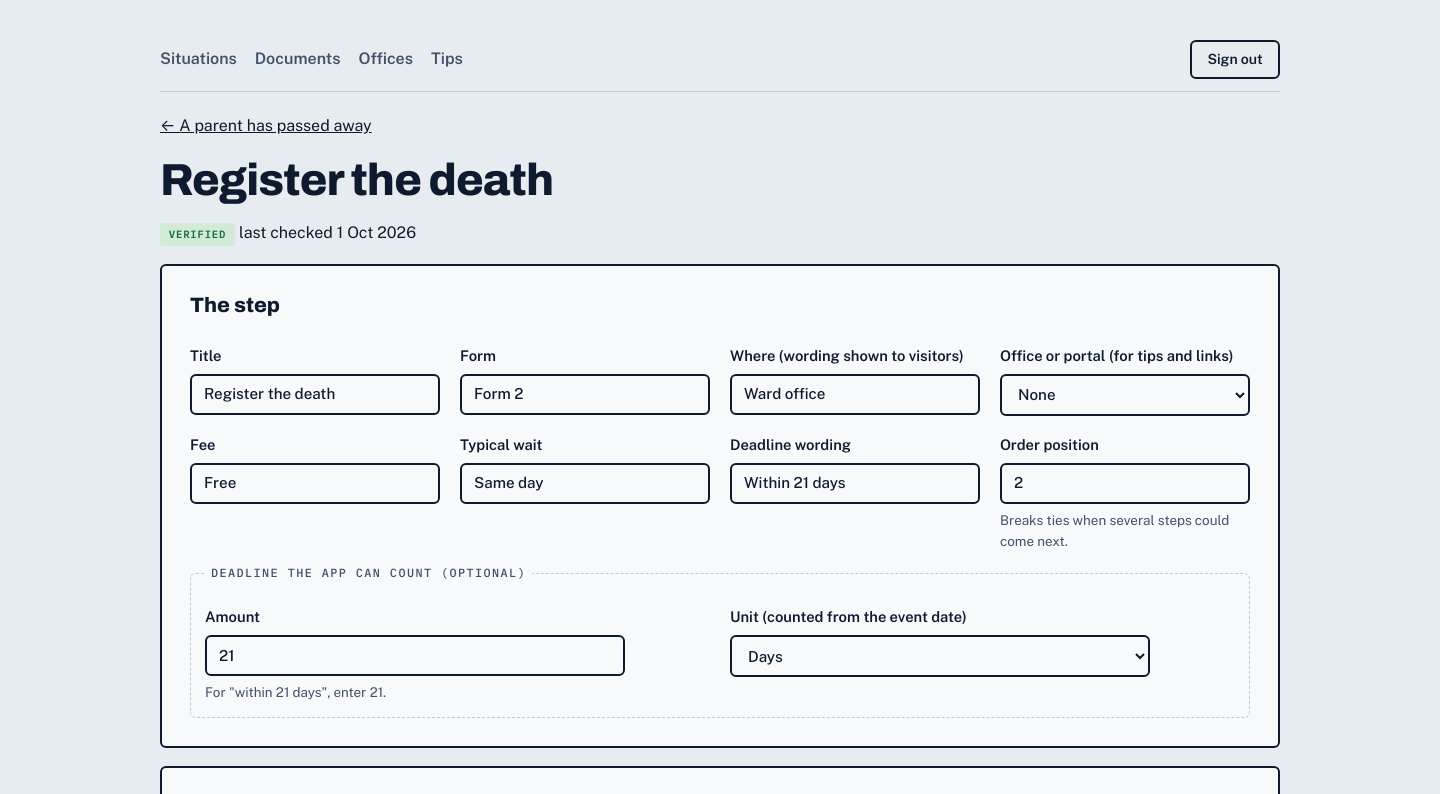
Test: Admin: the step editor › saves with the source, the verified flag, dependencies and documents
The width and height of the screenshot is (1440, 794).
Expected: the heading "Register the death" is shown, 160,156 -> 553,204
Expected: the field labelled "Title" holds "Register the death", 190,374 -> 440,415
Replace the text in the field labelled "Fee" with "Rs 10": point(315, 484) 190,463 -> 440,504
(page scrolled)
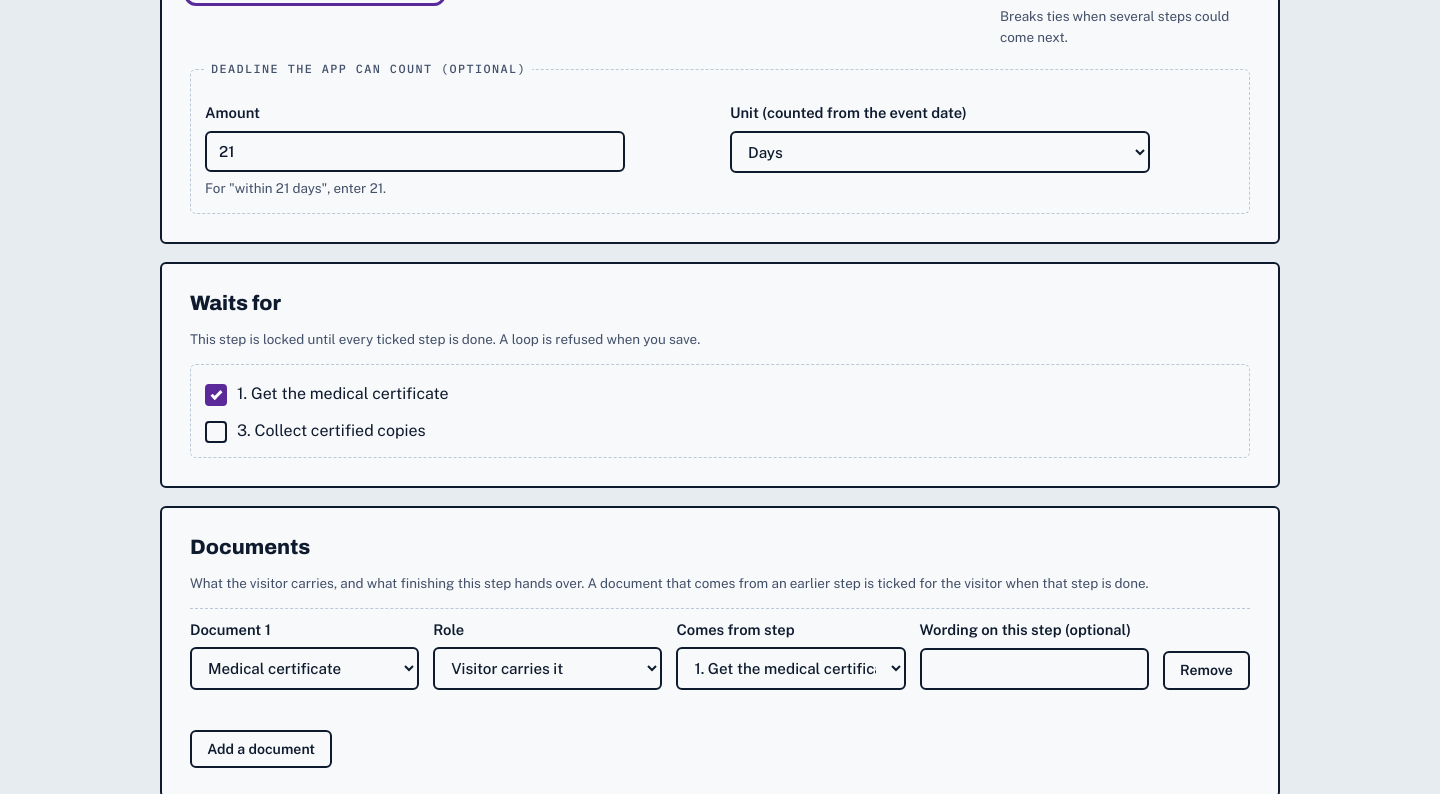
Click the checkbox labelled "3. Collect certified copies": point(216, 432) 205,421 -> 227,443
(page scrolled)
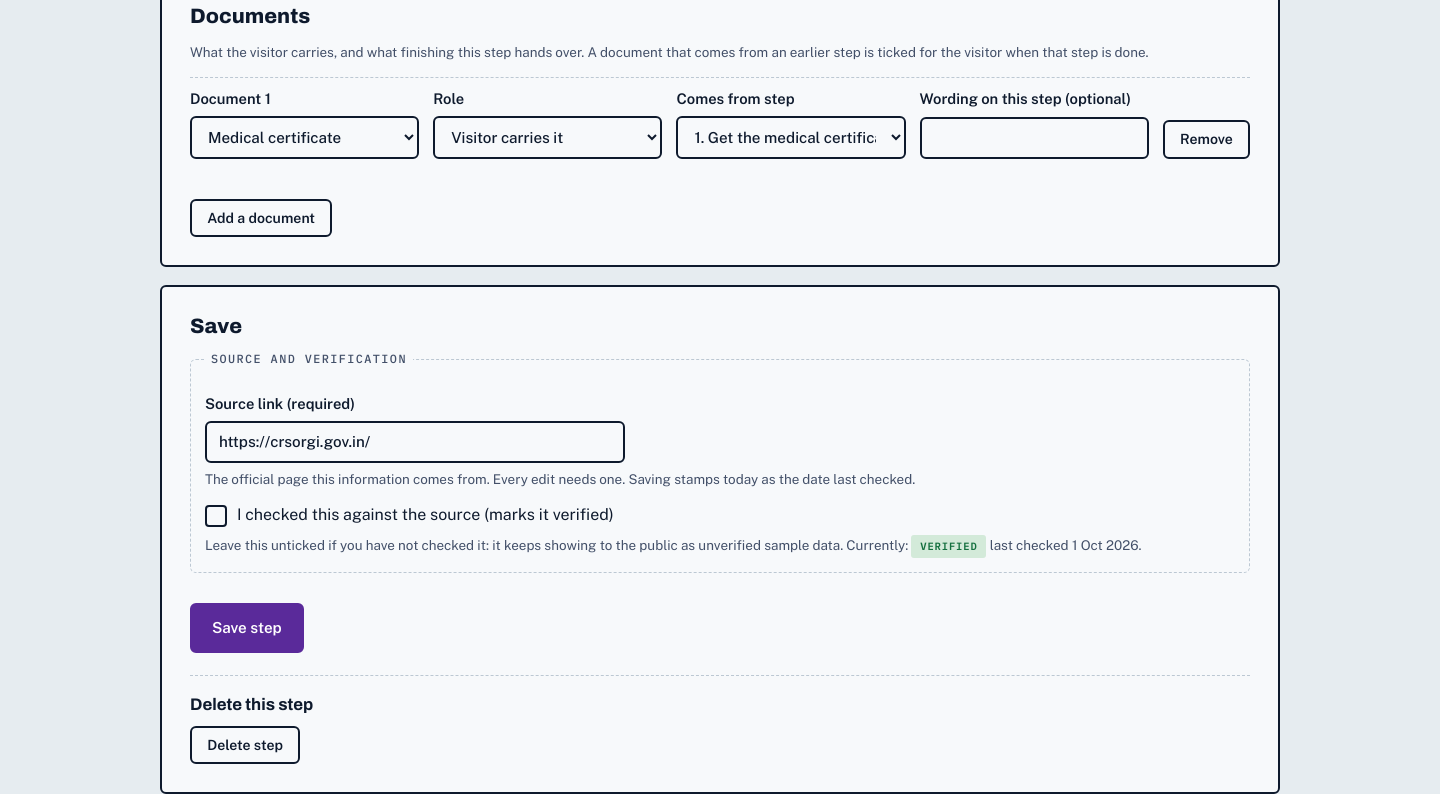
Replace the text in the field labelled "Source link (required)" with "https://example.gov.in/fee": point(415, 442) 205,421 -> 625,463
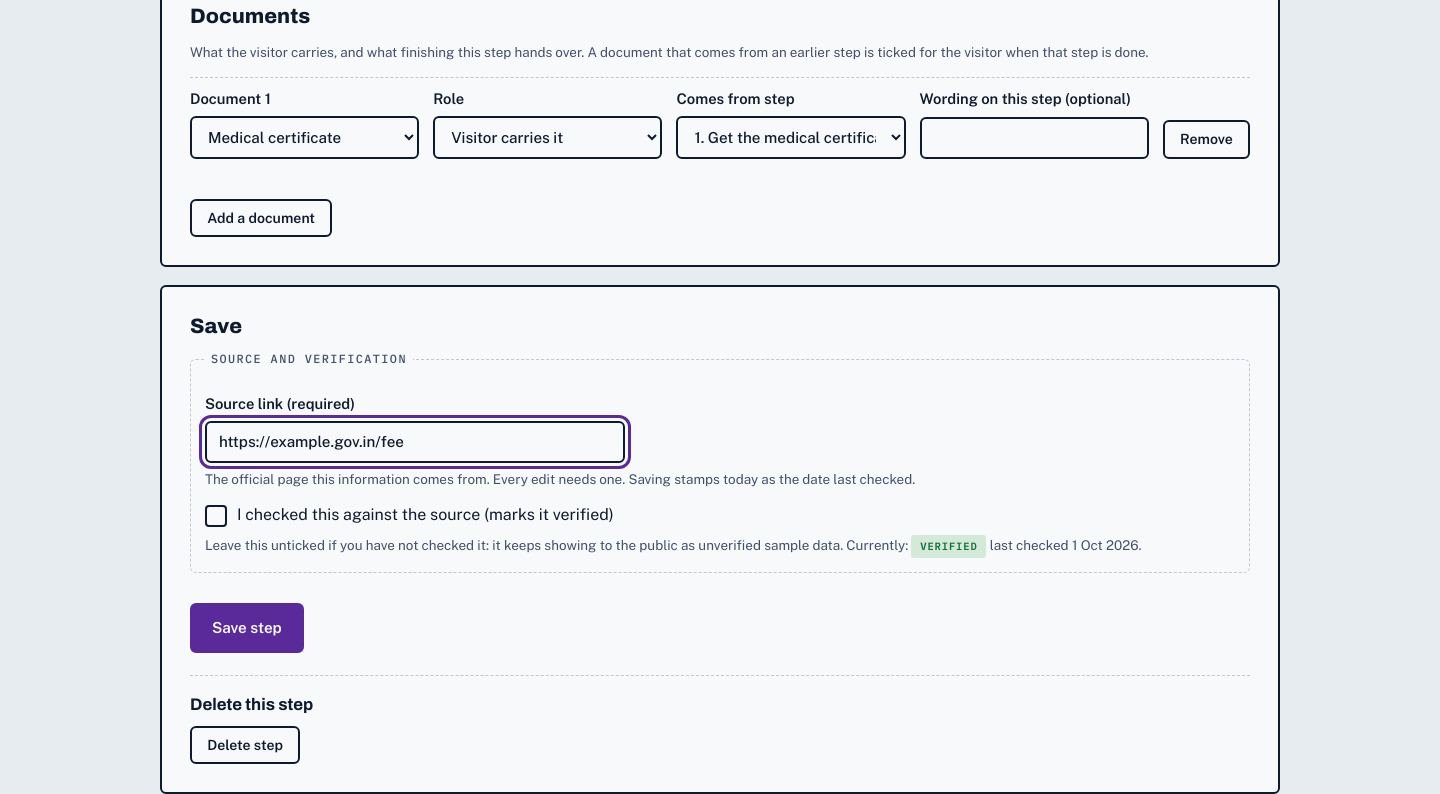
Click the checkbox labelled "I checked this against the source (marks it verified)": point(216, 516) 205,505 -> 227,527
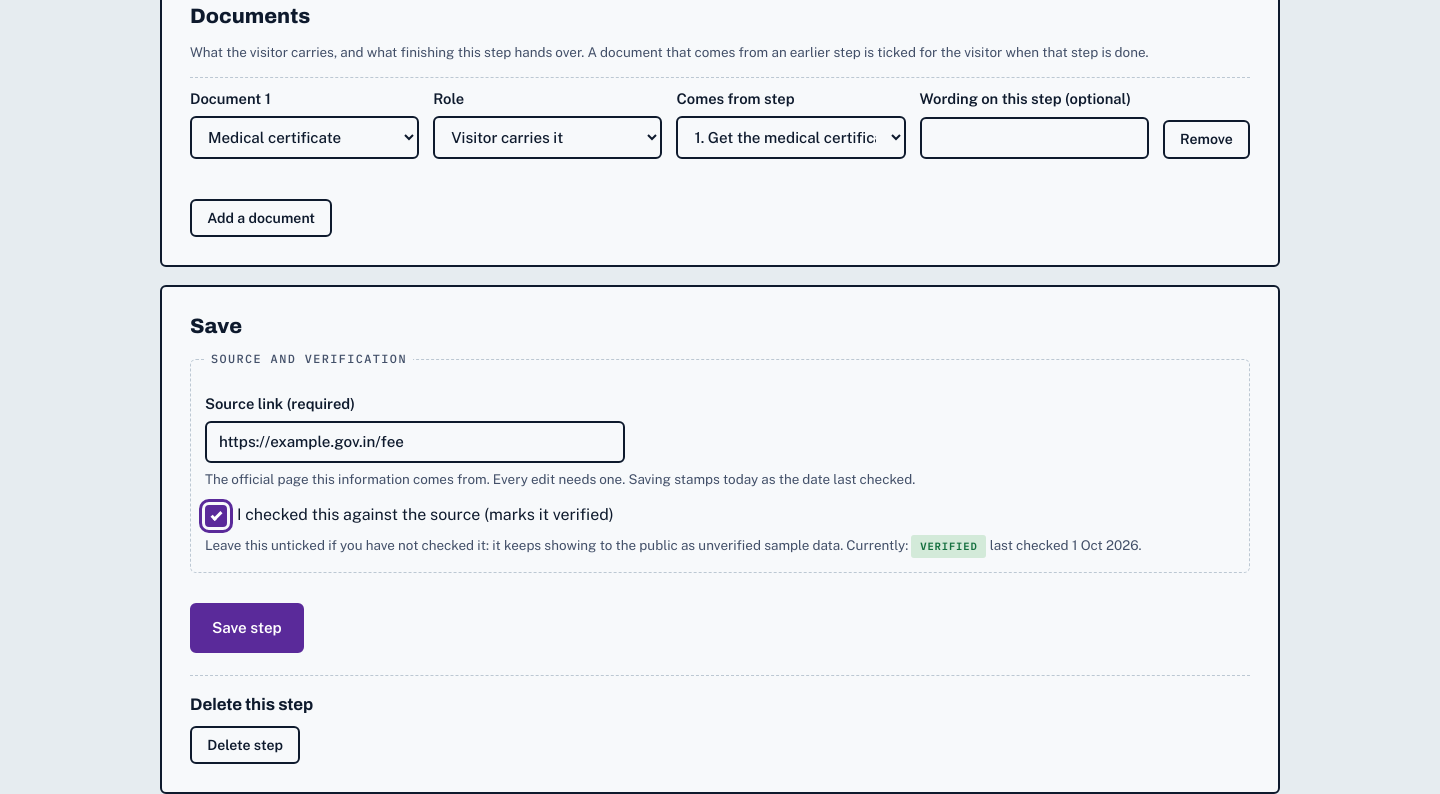
Click the button "Save step": point(247, 628) 190,603 -> 304,652
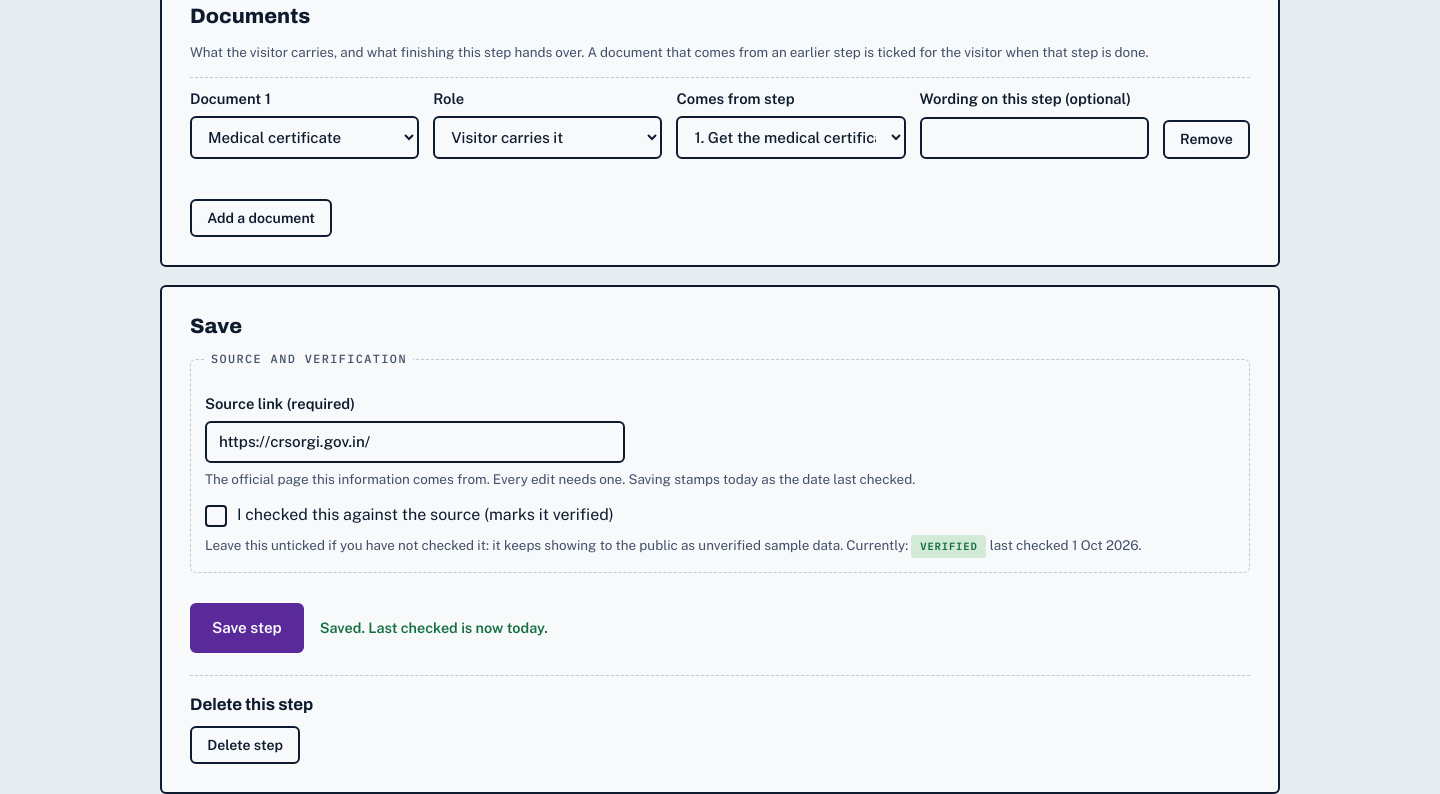
Now the text "Saved. Last checked is now today." is shown, box 320,616 -> 548,639
